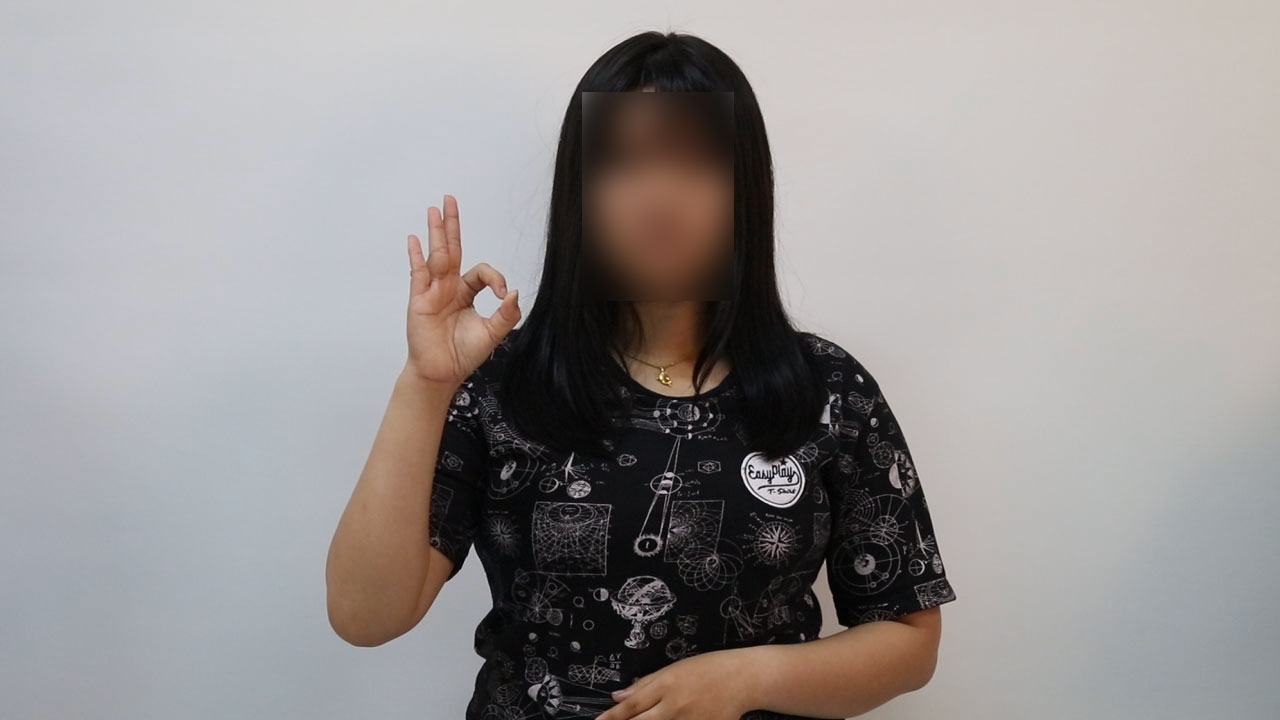for: (381, 183, 528, 394)
